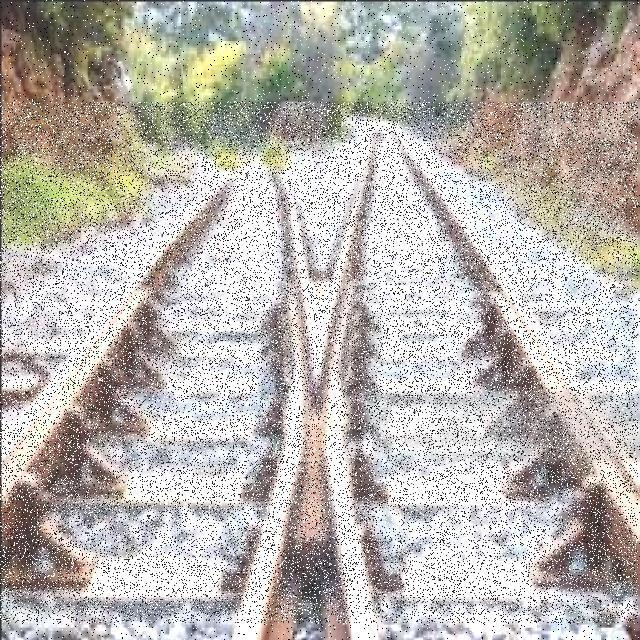rail: (1, 103, 638, 623)
